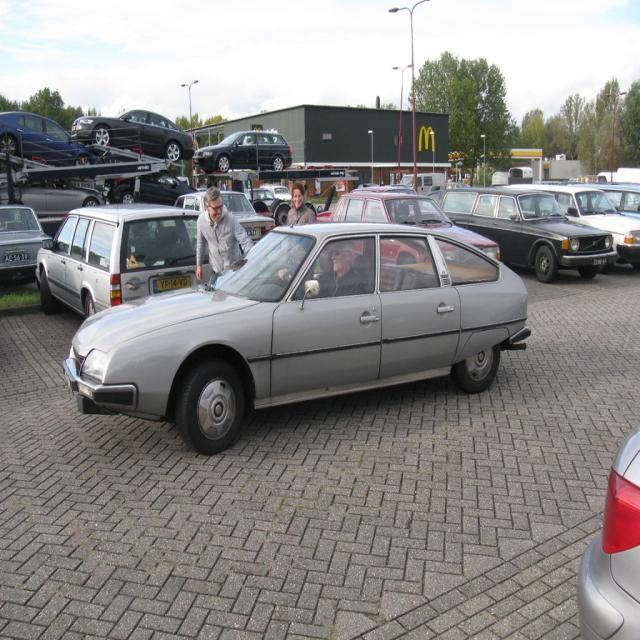car: (62, 215, 540, 449)
